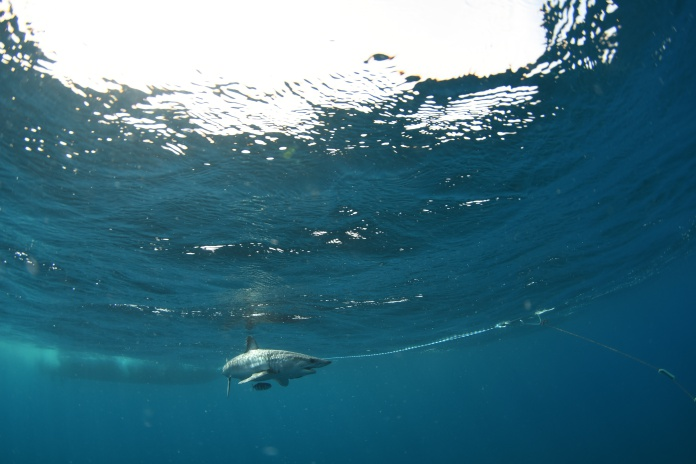Mako: (200, 328, 340, 399)
